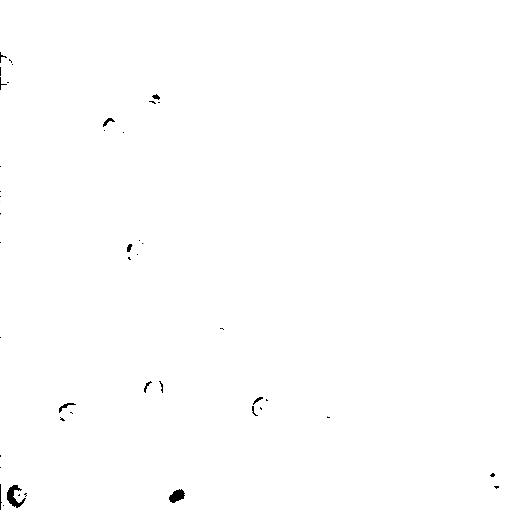micro-algae: (151, 472, 202, 510), (1, 479, 36, 510), (119, 235, 148, 265), (483, 464, 507, 495), (100, 112, 123, 140), (1, 51, 17, 85), (57, 402, 81, 422), (144, 375, 164, 398), (251, 396, 269, 415)
